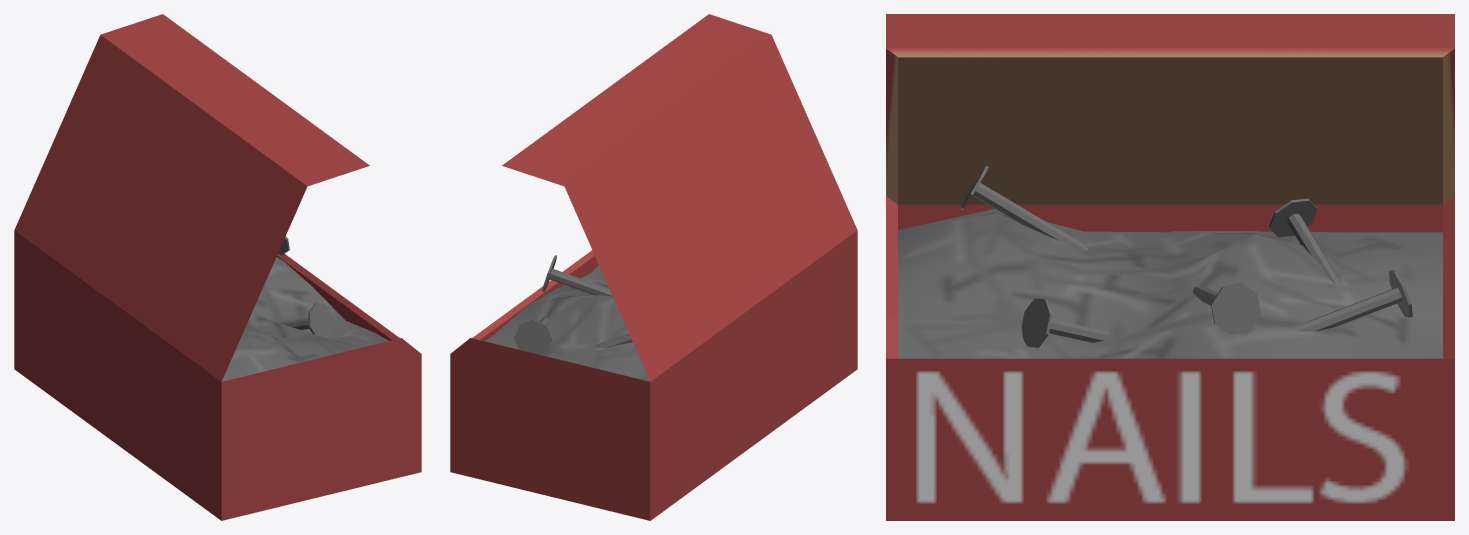
Rendered from Old Nail_Box.fbx.
3 renders of one model, left to right at view 1: azimuth 30°, elevation 25°; view 2: azimuth 150°, elevation 25°; view 3: azimuth 270°, elevation 25°, orthographic. The views are drawn at different scales.
Visible parts, largest first — view 1: pCylinder12; view 2: pCylinder12; view 3: pCylinder12.
Boxes of the visible parts, box(x1,y1,x2,y2) form: pCylinder12: box(14, 14, 421, 520); pCylinder12: box(450, 14, 857, 520); pCylinder12: box(886, 14, 1454, 520).
Size of the model in its own units: 0.1859 by 0.2833 by 0.3334.
